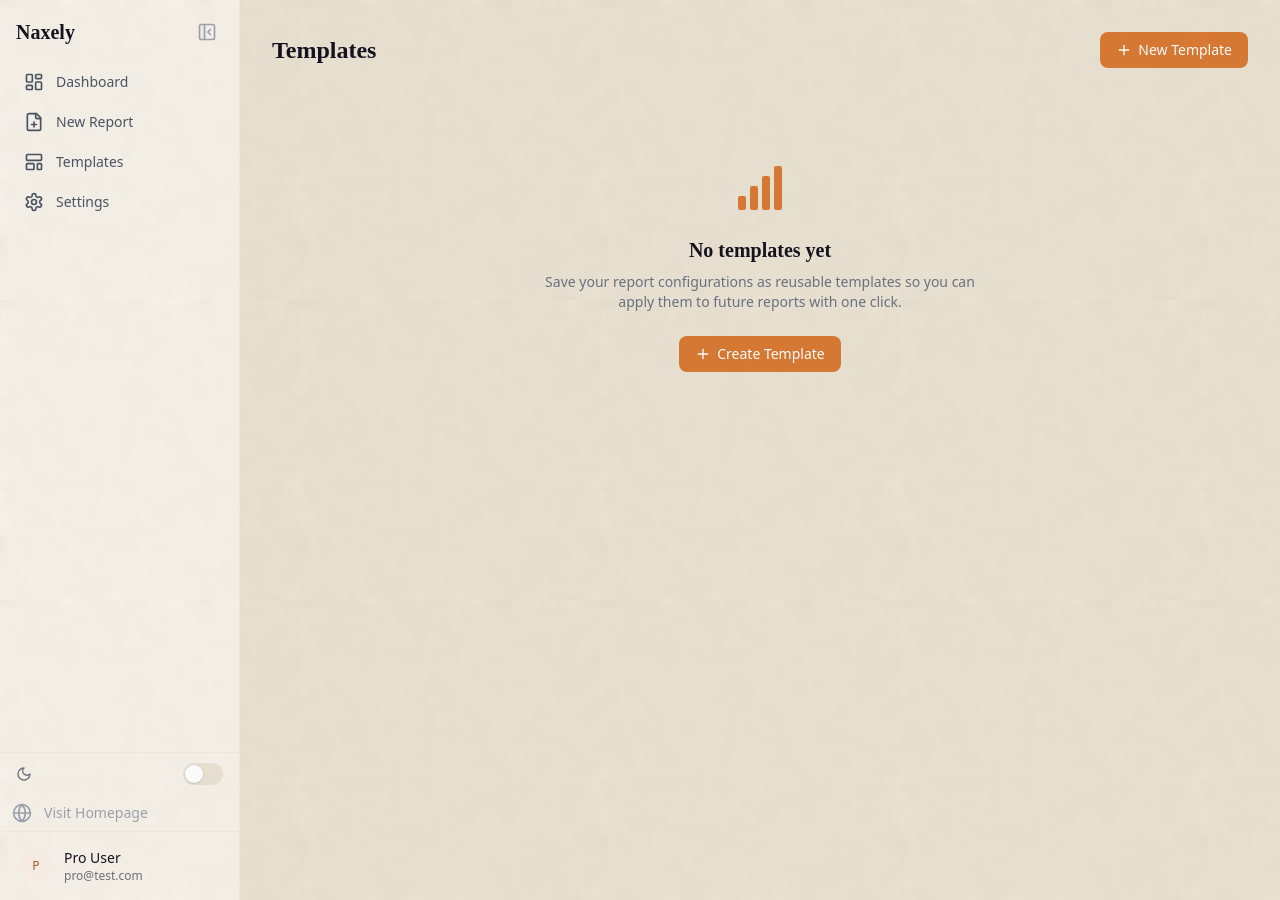
Test case: Templates › validates template name is required in create form
This screenshot has width=1280, height=900.
Expected: the heading "No templates yet" is shown, [689, 236, 831, 264]
Click the button "Create Template" at (760, 354), box [679, 336, 841, 372]
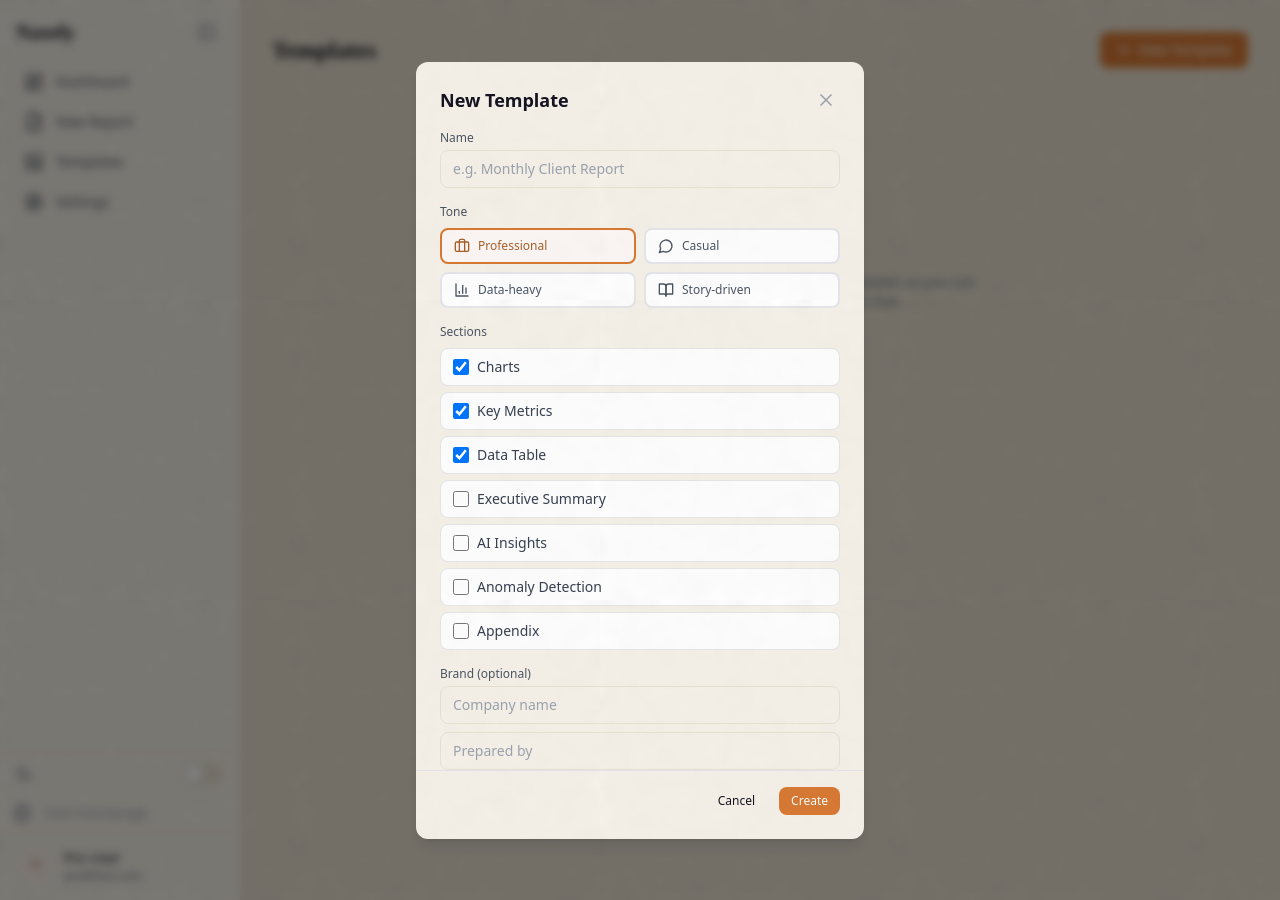
Expected: the heading "New Template" is shown, [440, 86, 569, 114]
Click the button "Create" at (810, 800), box [779, 786, 840, 814]
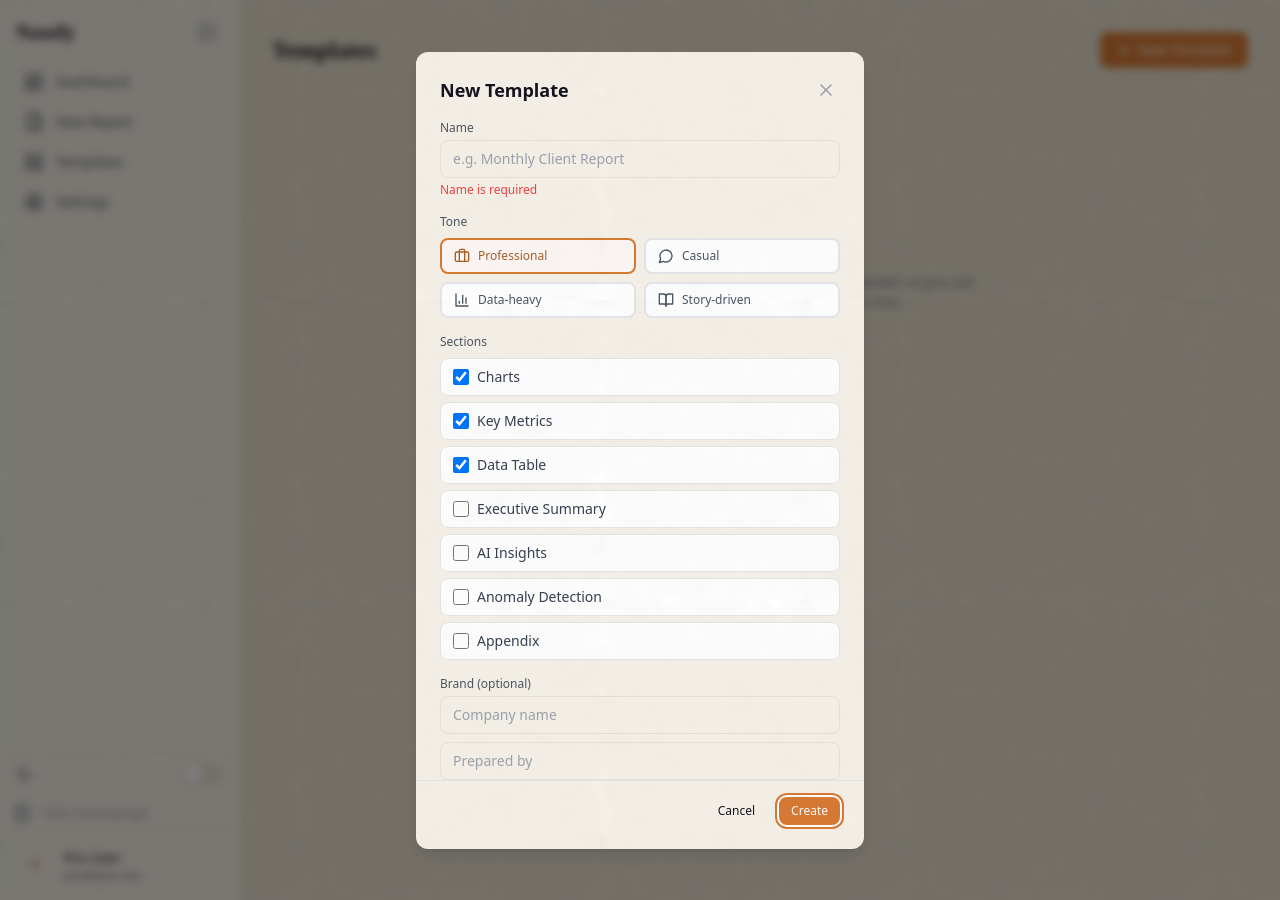
Expected: the text "Name is required" is shown, [440, 180, 537, 198]
